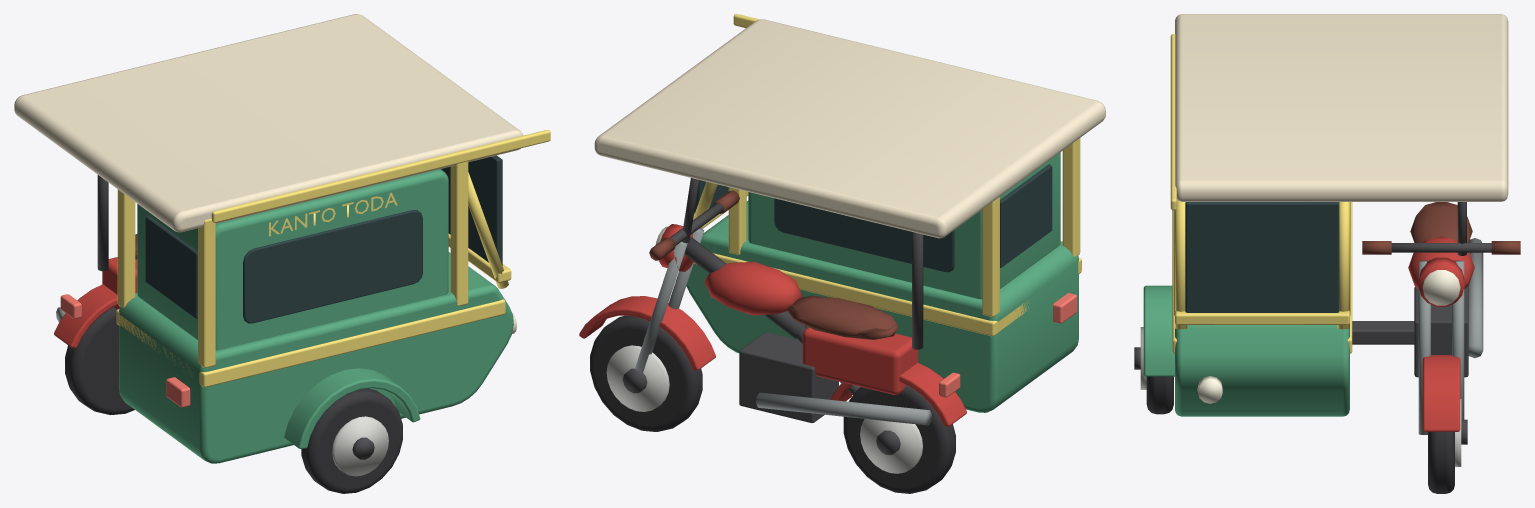
File: tricycle.glb
3 views of the same model, side by side, from view 1: azimuth 30°, elevation 25°; view 2: azimuth 150°, elevation 25°; view 3: azimuth 270°, elevation 25° (orthographic).
Visible parts, largest first — view 1: tricycle_body, tricycle_trim, tricycle_glass, tricycle_wheels, tricycle_round, tricycle_letters; view 2: tricycle_body, tricycle_trim, tricycle_round, tricycle_wheels, tricycle_glass; view 3: tricycle_body, tricycle_glass, tricycle_trim, tricycle_round, tricycle_wheels.
Part boxes in pixels (box(x1,y1,x2,y2)): tricycle_body: box(14, 14, 523, 463); tricycle_trim: box(54, 130, 550, 448); tricycle_glass: box(145, 155, 502, 323); tricycle_wheels: box(65, 306, 402, 493); tricycle_round: box(56, 172, 516, 476); tricycle_letters: box(269, 192, 397, 236); tricycle_body: box(594, 19, 1105, 412); tricycle_trim: box(579, 14, 1081, 426); tricycle_round: box(606, 178, 931, 473); tricycle_wheels: box(590, 315, 955, 493); tricycle_glass: box(694, 164, 1052, 272); tricycle_body: box(1175, 14, 1508, 416); tricycle_glass: box(1185, 202, 1339, 312); tricycle_trim: box(1143, 34, 1468, 431); tricycle_round: box(1134, 200, 1520, 466); tricycle_wheels: box(1146, 376, 1454, 493).
Size of the model in its own units: 2.18 by 1.67 by 1.85.
